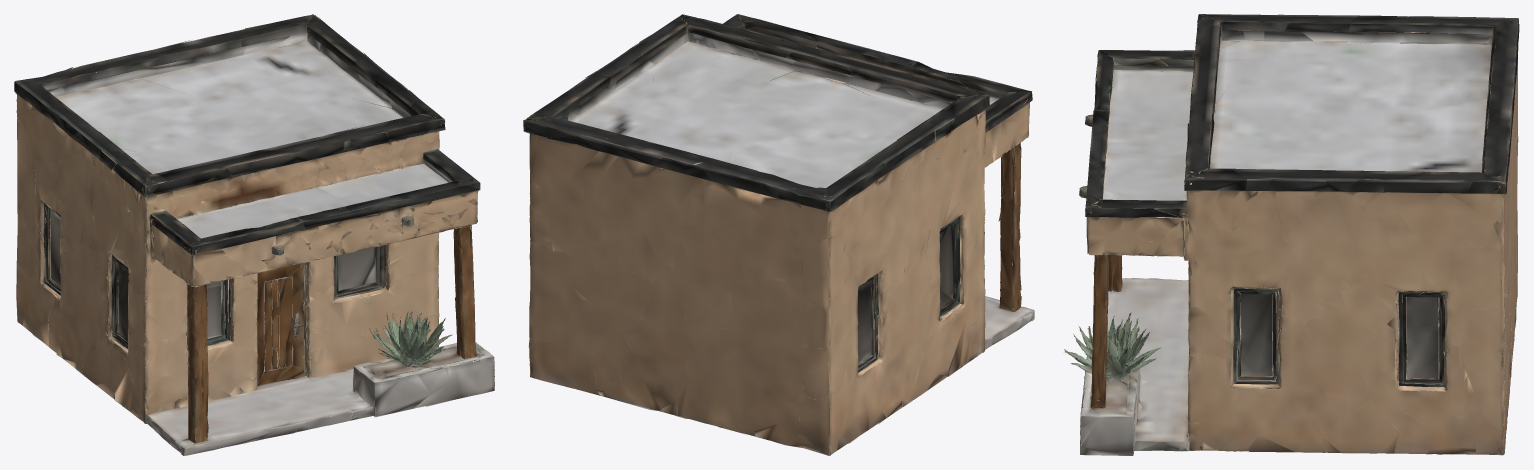
File: casita.glb
3 renders of one model, left to right at view 1: azimuth 30°, elevation 25°; view 2: azimuth 150°, elevation 25°; view 3: azimuth 270°, elevation 25°, orthographic. The views are drawn at different scales.
Parts seen in each view (by area): view 1: LO.001; view 2: LO.001; view 3: LO.001.
Boxes of the visible parts, box(x1,y1,x2,y2) form: LO.001: box(14, 14, 494, 455); LO.001: box(523, 14, 1034, 455); LO.001: box(1064, 14, 1519, 455).
Bounding box in the file's own units: 1.72 × 1.3 × 1.94.
Materials: 1 (1 with a texture image).
